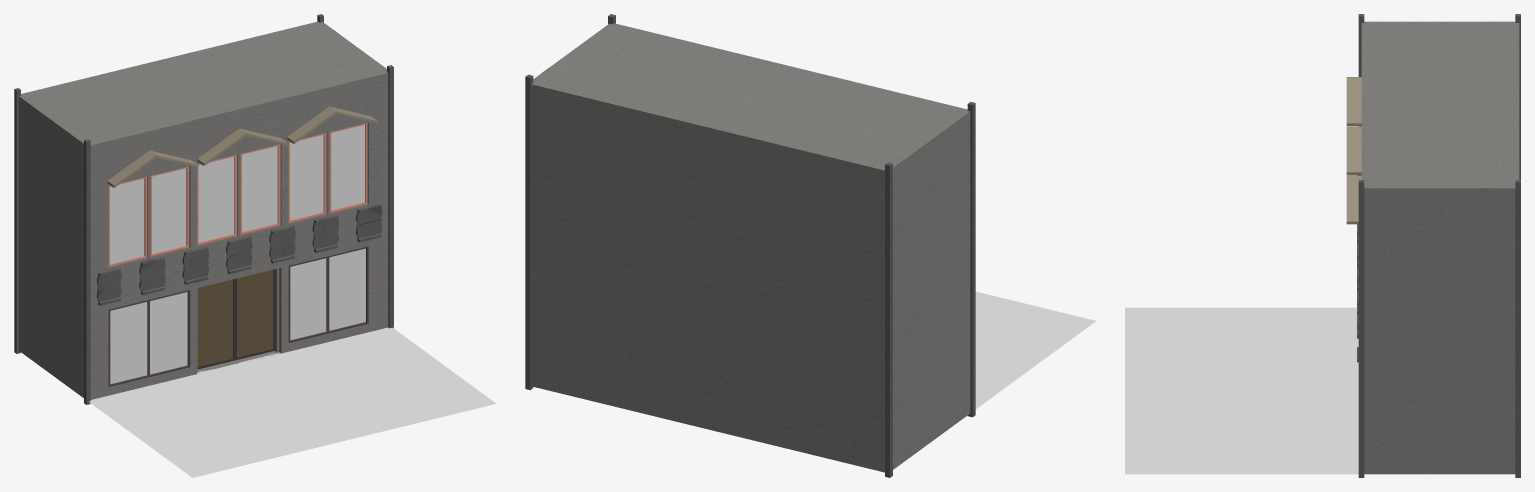
Rendered from Streetbuilding.fbx.
3 views of the same model, side by side, from view 1: azimuth 30°, elevation 25°; view 2: azimuth 150°, elevation 25°; view 3: azimuth 270°, elevation 25° (orthographic). The views are drawn at different scales.
Visible parts, largest first — view 1: Cube.003, Plane.007; view 2: Cube.003, Plane.007; view 3: Cube.003, Plane.007.
Part boxes in pixels (bbox=[...]): Cube.003: bbox=[14, 14, 393, 404]; Plane.007: bbox=[89, 327, 496, 477]; Cube.003: bbox=[525, 14, 975, 477]; Plane.007: bbox=[975, 291, 1095, 408]; Cube.003: bbox=[1346, 14, 1520, 477]; Plane.007: bbox=[1125, 307, 1358, 474].
Size of the model in its own units: 2022 by 1655 by 2009.
Materials: 9 (2 with a texture image).
